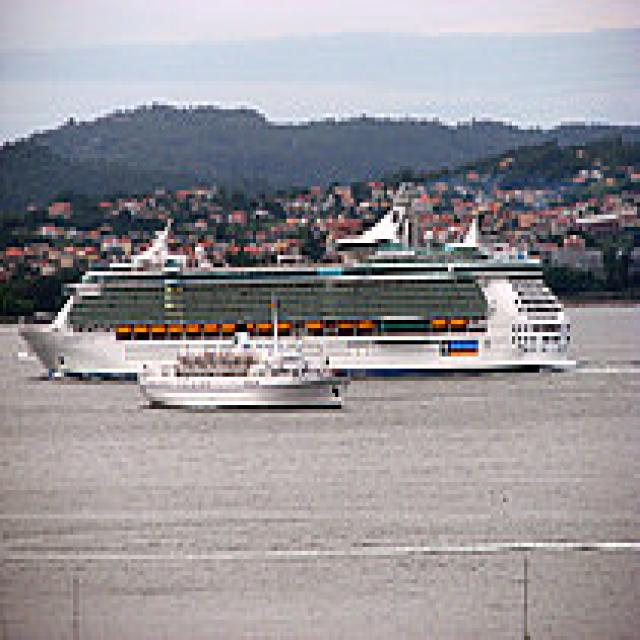Cruise: (12, 206, 573, 376)
